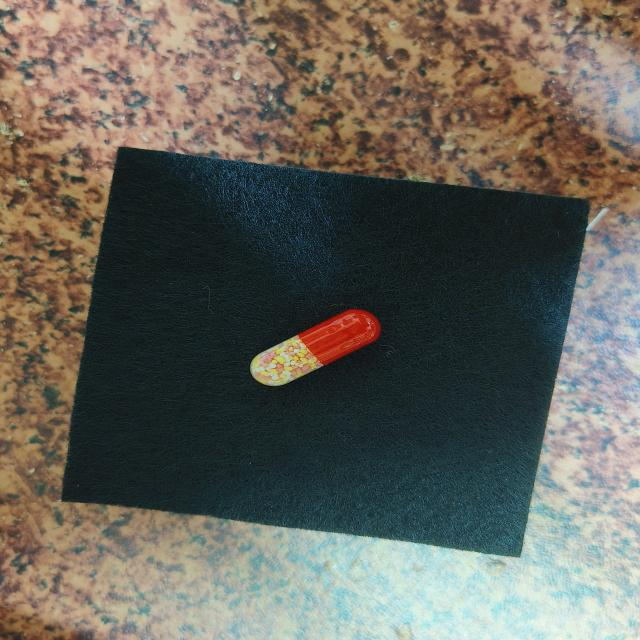Intact Capsule: (250, 309, 381, 386)
